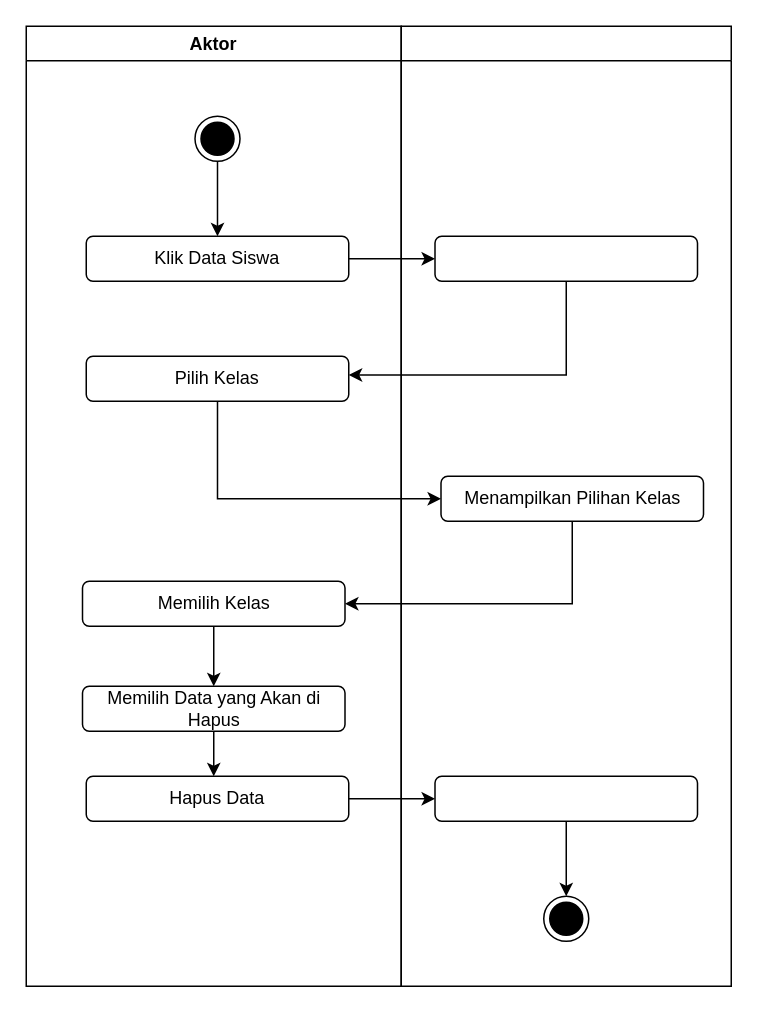
Image size: 758x1013. Some labels were removed from this diagram. Each missing label, with the box of its shape:
Menampilkan Kelas-Kelas: (434, 235, 698, 281)
Menghapus Data: (434, 775, 698, 821)
Sistem: (400, 25, 731, 986)
